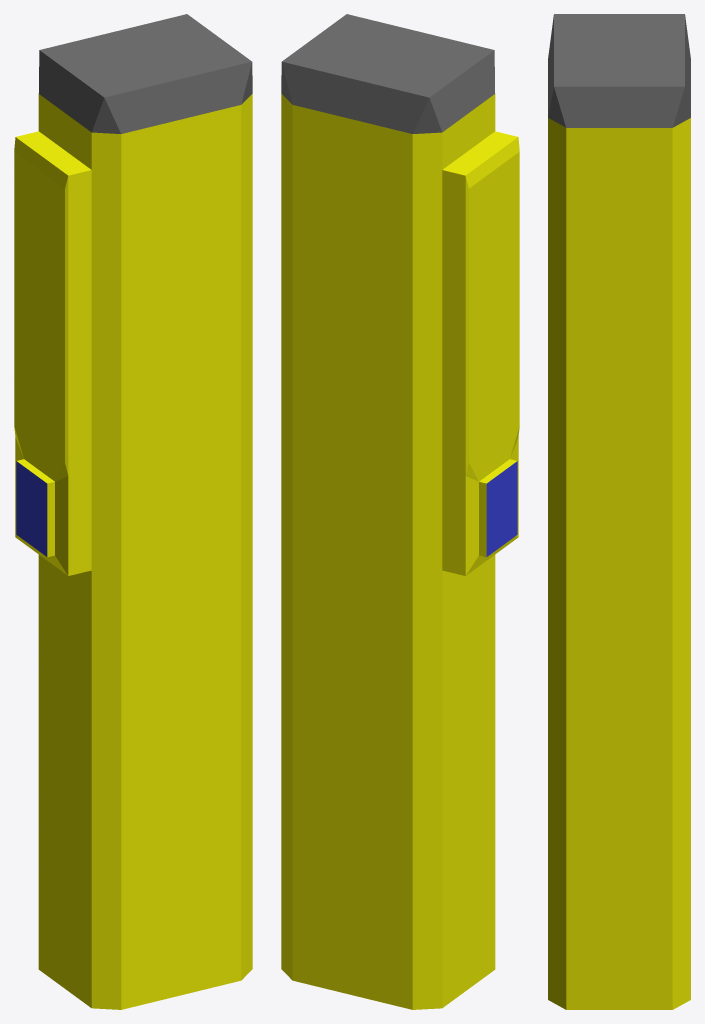
The model's file is Yellow Post.fbx.
The picture shows the model from 3 angles, left to right: view 1: azimuth 30°, elevation 25°; view 2: azimuth 150°, elevation 25°; view 3: azimuth 270°, elevation 25°; orthographic projection.
Visible parts, largest first — view 1: Metal Stand.002; view 2: Metal Stand.002; view 3: Metal Stand.002.
Part boxes in pixels (x1,y1,x2,y2): Metal Stand.002: (14,14,252,1009); Metal Stand.002: (281,14,519,1009); Metal Stand.002: (548,14,690,1009).
Size of the model in its own units: 206 by 925 by 130.
